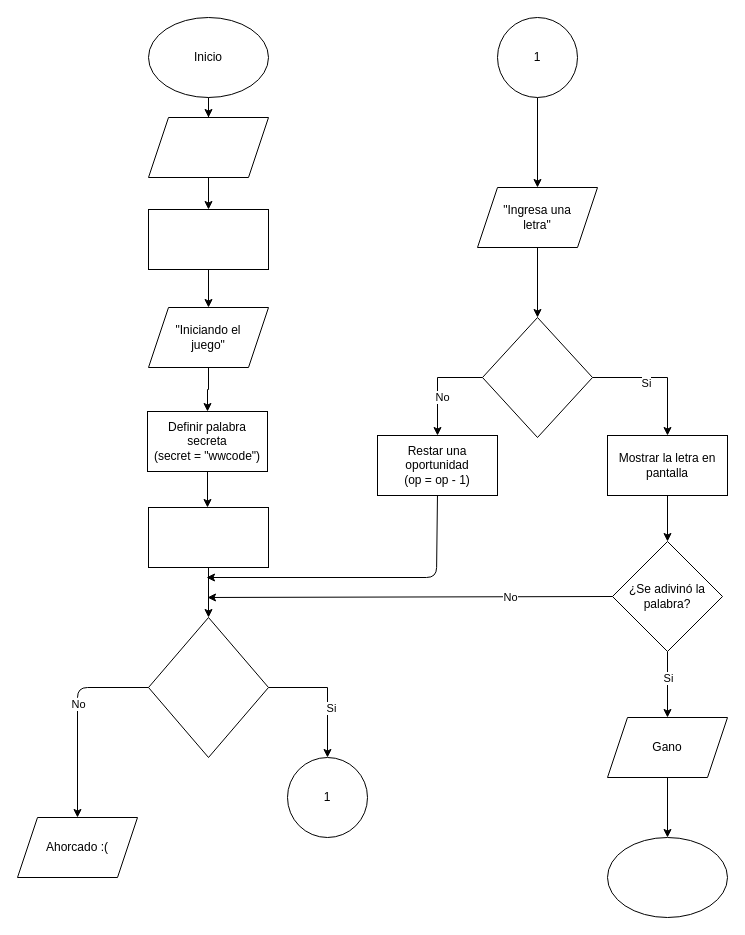
The diagram is 745 pixels wide and 935 high, and some of its shapes have lost their labels. The centre of each missing label's shape, as x and y in pixels:
"Ingresa tu nombre": [208,147]
Definir numero de oportunidades (op = 10): [208,537]
Fin: [667,877]
Leer nombre: [208,239]
¿Aun tiene oportunidades restantes?: [208,687]
¿Está la letra en la palabra secreta?: [537,377]
